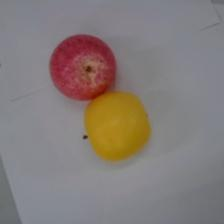red: (49, 33, 117, 101)
yellow: (84, 92, 151, 163)
